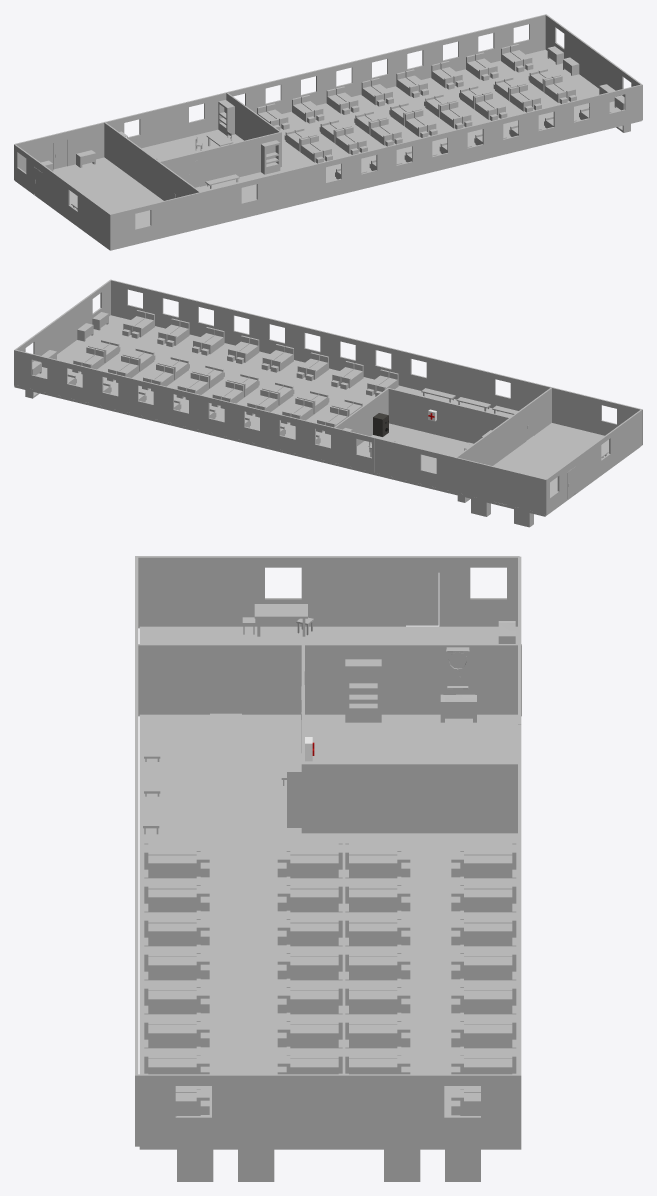
File: kazarm.fbx
3 renders of one model, top to bottom at view 1: azimuth 30°, elevation 25°; view 2: azimuth 150°, elevation 25°; view 3: azimuth 270°, elevation 25°, orthographic. The views are drawn at different scales.
Visible parts, largest first — view 1: Cube__17_, Cube__42__3, Cube__13_, Cube__12_, Cube__43__3, Cube__35__2, Cube__49__3, Cube__18__32, Cube__11_, Cube__18__31, Cube__19__32, Cube__38__2 (+27 smaller); view 2: Cube__17_, Cube__12_, Cube__42__3, Cube__43__3, Cube__35__2, Cube__49__3, Cube__13_, Cube__19__31, Cube__18__32, Cube__11_, Cube__18__31, Cube__19__32 (+27 smaller); view 3: Cube__17_, Cube__11_, Cube__49__3, Cube__13_, Cube__18__32, Cube__19__32, Cube__40__3, Cube__44__3, Cube__46__3, Cube__45__4, shkaf__2_, Cube__18__33 (+38 smaller).
Boxes of the visible parts, x1,y1,x2,y2 form: Cube__17_: [15, 49, 641, 250]; Cube__42__3: [168, 182, 239, 235]; Cube__13_: [104, 122, 159, 196]; Cube__12_: [207, 132, 280, 180]; Cube__43__3: [259, 166, 309, 213]; Cube__35__2: [141, 102, 186, 147]; Cube__49__3: [571, 33, 622, 96]; Cube__18__32: [77, 191, 110, 249]; Cube__11_: [226, 92, 281, 166]; Cube__18__31: [69, 122, 104, 165]; Cube__19__32: [42, 165, 69, 219]; Cube__38__2: [109, 208, 133, 250]; Cube__17_: [14, 315, 639, 516]; Cube__12_: [388, 388, 461, 440]; Cube__42__3: [512, 378, 583, 430]; Cube__43__3: [444, 361, 492, 408]; Cube__35__2: [374, 437, 419, 483]; Cube__49__3: [40, 294, 91, 355]; Cube__13_: [455, 417, 511, 493]; Cube__19__31: [507, 470, 546, 515]; Cube__18__32: [609, 409, 642, 467]; Cube__11_: [333, 388, 388, 462]; Cube__18__31: [456, 457, 491, 499]; Cube__19__32: [574, 441, 601, 494]; Cube__17_: [139, 626, 521, 1149]; Cube__11_: [301, 763, 521, 833]; Cube__49__3: [215, 1074, 416, 1146]; Cube__13_: [301, 644, 521, 716]; Cube__18__32: [136, 556, 264, 628]; Cube__19__32: [301, 556, 405, 626]; Cube__40__3: [137, 644, 209, 716]; Cube__44__3: [242, 644, 301, 714]; Cube__46__3: [135, 1074, 170, 1146]; Cube__45__4: [485, 1074, 518, 1146]; shkaf__2_: [345, 659, 381, 722]; Cube__18__33: [439, 556, 470, 626].
Size of the model in its own units: 4836 by 466 by 1520.
